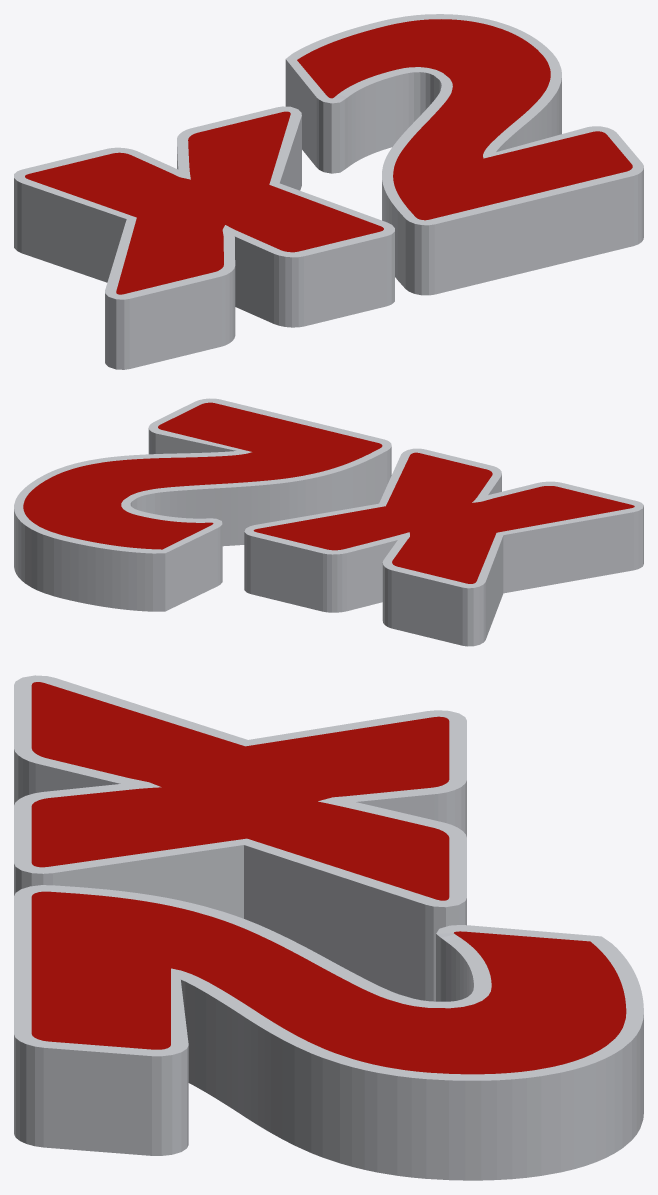
3 views of the same model, one above another, from view 1: azimuth 30°, elevation 25°; view 2: azimuth 150°, elevation 25°; view 3: azimuth 270°, elevation 25° (orthographic). The views are drawn at different scales.
Parts seen in each view (by area): view 1: x2; view 2: x2; view 3: x2.
Boxes of the visible parts, bbox=[...] form: x2: bbox=[14, 14, 643, 369]; x2: bbox=[14, 398, 643, 646]; x2: bbox=[14, 675, 643, 1180].
Bounding box in the file's own units: 1.06 × 0.1221 × 0.695.
